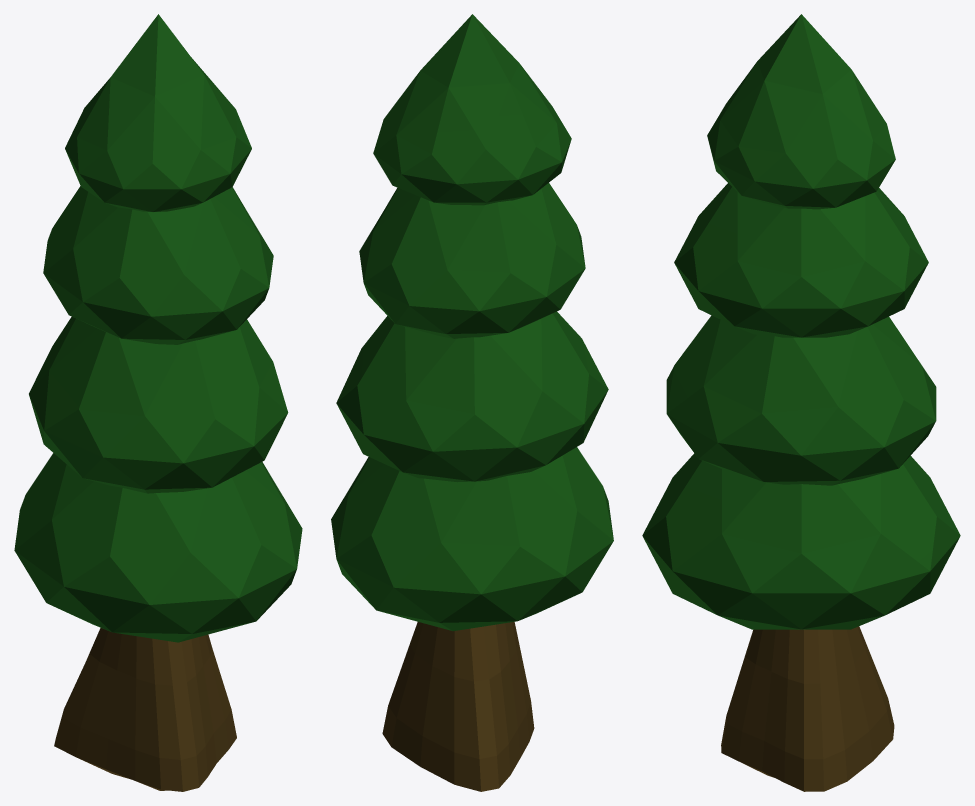
Rendered from Tree.fbx.
3 views of the same model, side by side, from view 1: azimuth 30°, elevation 25°; view 2: azimuth 150°, elevation 25°; view 3: azimuth 270°, elevation 25° (orthographic).
Visible parts, largest first — view 1: Tree; view 2: Tree; view 3: Tree.
Part boxes in pixels (bbox=[...]): Tree: bbox=[14, 14, 302, 791]; Tree: bbox=[331, 14, 613, 791]; Tree: bbox=[642, 14, 960, 791].
Bounding box in the file's own units: 129 × 390 × 151.
